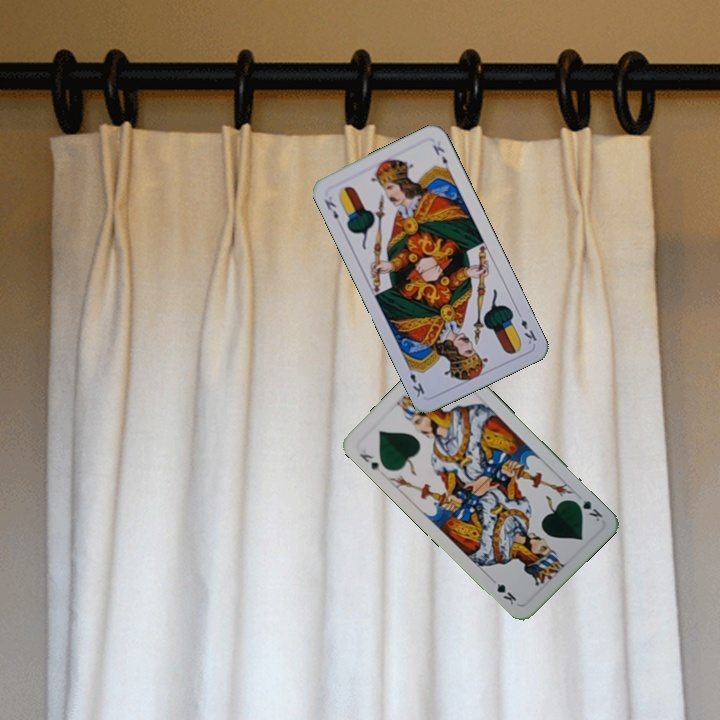EK: (513, 307, 539, 347), (320, 195, 341, 222)
GK: (569, 495, 605, 524), (356, 449, 384, 474)
